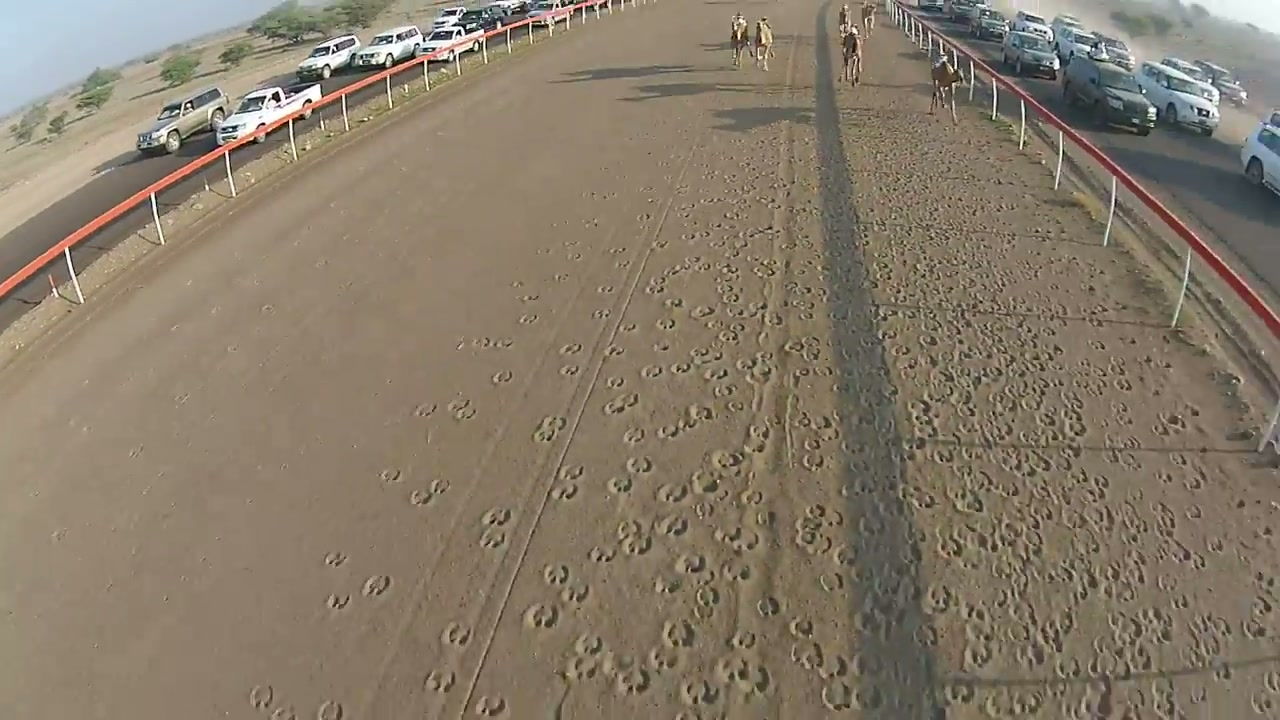animal_foot_print: (482, 125, 1279, 719), (479, 508, 512, 549), (525, 603, 560, 629), (441, 622, 472, 648), (474, 695, 509, 717), (423, 670, 456, 693), (249, 685, 274, 710), (362, 575, 391, 596), (315, 700, 345, 719), (326, 593, 351, 611), (324, 551, 346, 567)
